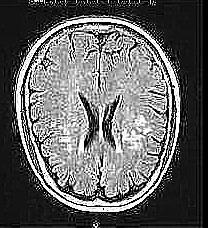Normal_Brain: (1, 1, 208, 228), (203, 1, 208, 226)
